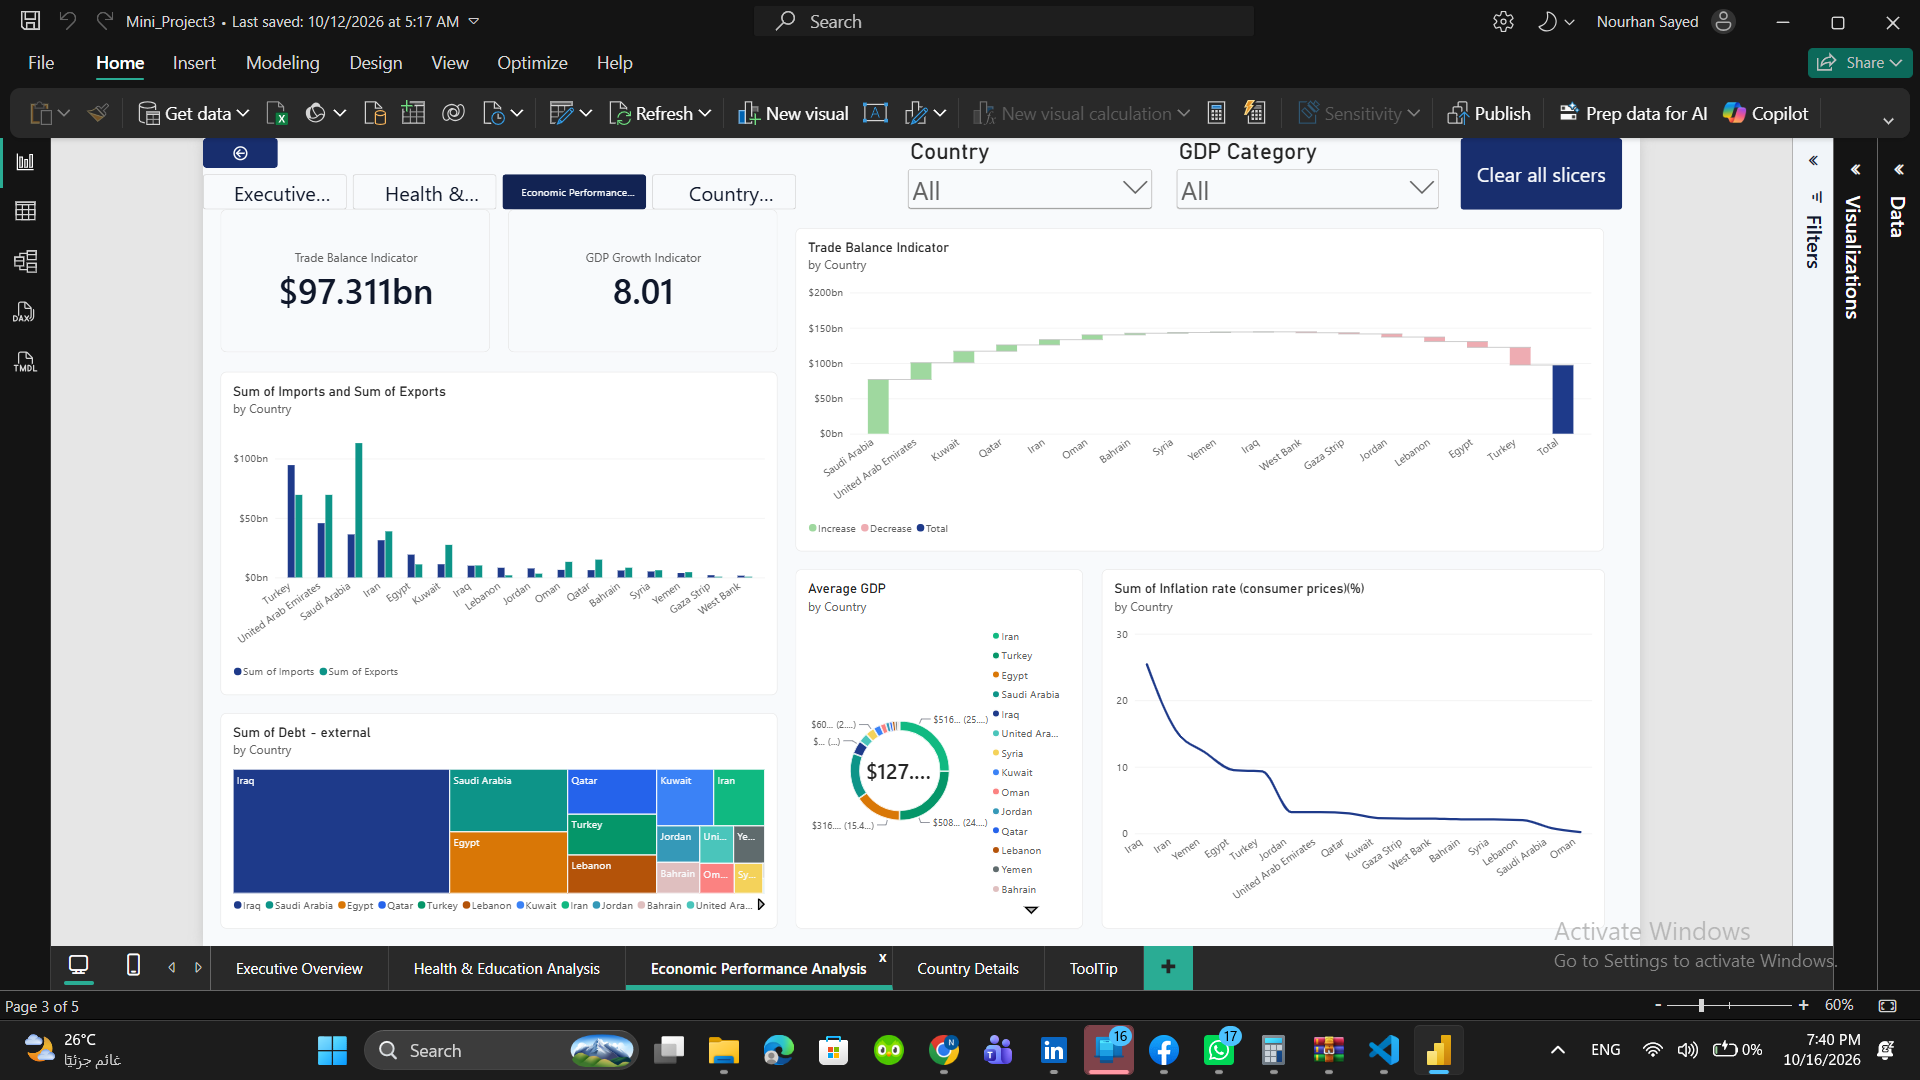

What the dashboard file says about the page in this screenshot:
{"tool":"powerbi","page":{"name":"Economic Performance Analysis","canvas":[1920,1080],"ordinal":2},"visuals":[{"type":"slicer","fields":{"Values":["Country_Comparison.Country"]},"box":[936,0,336,96],"z":0},{"type":"slicer","fields":{"Values":["Country_Comparison.GDP Category"]},"box":[1296,0,360,96],"z":1},{"type":"cardVisual","fields":{"Data":["Metrics.Trade Balance Indicator"]},"box":[24,96,360,192],"z":2},{"type":"cardVisual","fields":{"Data":["Metrics.GDP Growth Indicator"]},"box":[408,96,360,192],"z":3},{"type":"clusteredColumnChart","fields":{"Category":["Country_Comparison.Country"],"Y":["Sum(Country_Comparison.Imports)","Sum(Country_Comparison.Exports)"]},"box":[24,312,744,432],"z":4},{"type":"waterfallChart","fields":{"Category":["Country_Comparison.Country"],"Y":["Metrics.Trade Balance Indicator"]},"box":[792,120,1080,432],"z":5},{"type":"lineChart","fields":{"Category":["Country_Comparison.Country"],"Y":["Sum(Country_Comparison.Inflation rate (consumer prices)(%))"]},"box":[1200,576,672,480],"z":6},{"type":"donutChart","fields":{"Category":["Country_Comparison.Country"],"Y":["Metrics.Average GDP"]},"box":[792,576,384,480],"z":7},{"type":"treemap","fields":{"Group":["Country_Comparison.Country"],"Values":["Sum(Country_Comparison.Debt - external)"]},"box":[24,768,744,288],"z":8},{"type":"pageNavigator","box":[0,48,792,48],"z":9},{"type":"actionButton","box":[1680,0,216,96],"z":10},{"type":"actionButton","box":[0,0,100,40],"z":11}]}

Visuals, with their boxes on the page's 1920x1080 design canvas (x1, y1, x2, y2). These are canvas units, not pixel positions in the 1920x1080 screenshot, which may show the page scaled, cropped or inside an application window:
slicer - Country_Comparison.Country: (left=936, top=0, right=1272, bottom=96)
slicer - Country_Comparison.GDP Category: (left=1296, top=0, right=1656, bottom=96)
cardVisual - Metrics.Trade Balance Indicator: (left=24, top=96, right=384, bottom=288)
cardVisual - Metrics.GDP Growth Indicator: (left=408, top=96, right=768, bottom=288)
clusteredColumnChart - Country_Comparison.Country x Sum(Country_Comparison.Imports): (left=24, top=312, right=768, bottom=744)
waterfallChart - Country_Comparison.Country x Metrics.Trade Balance Indicator: (left=792, top=120, right=1872, bottom=552)
lineChart - Country_Comparison.Country x Sum(Country_Comparison.Inflation rate (consumer prices)(%)): (left=1200, top=576, right=1872, bottom=1056)
donutChart - Country_Comparison.Country x Metrics.Average GDP: (left=792, top=576, right=1176, bottom=1056)
treemap - Country_Comparison.Country x Sum(Country_Comparison.Debt - external): (left=24, top=768, right=768, bottom=1056)
pageNavigator: (left=0, top=48, right=792, bottom=96)
actionButton: (left=1680, top=0, right=1896, bottom=96)
actionButton: (left=0, top=0, right=100, bottom=40)
